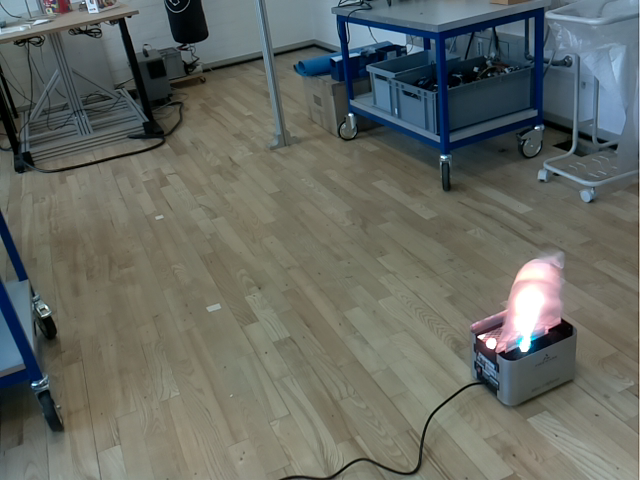fire: (495, 250, 565, 352)
